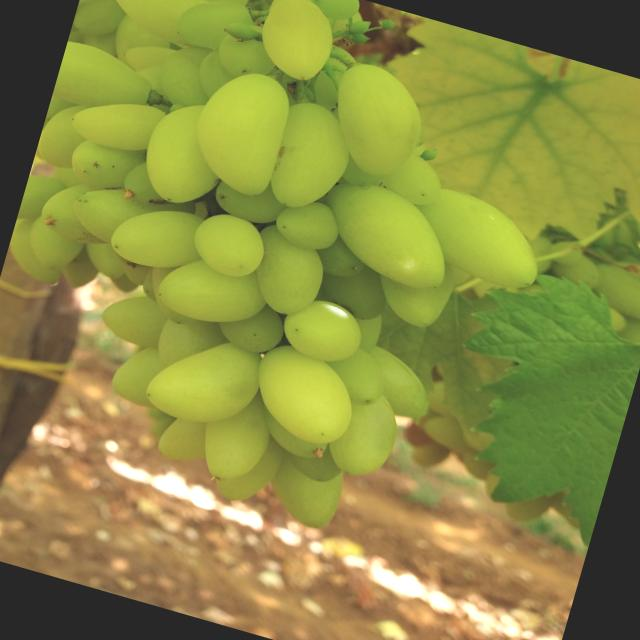grapes: (309, 171, 465, 297), (179, 58, 299, 204), (401, 181, 554, 295), (316, 58, 436, 186), (140, 324, 268, 438), (242, 338, 368, 450), (132, 94, 238, 214), (263, 96, 361, 222), (64, 176, 196, 268), (150, 249, 273, 338), (105, 192, 212, 282), (238, 224, 334, 322), (51, 38, 158, 124), (190, 387, 278, 488), (321, 384, 406, 484), (250, 0, 344, 85), (344, 341, 441, 423), (368, 245, 458, 332), (278, 290, 369, 370), (68, 86, 166, 159), (260, 452, 348, 532), (183, 206, 273, 284), (250, 388, 340, 464), (208, 428, 282, 511), (35, 175, 119, 248), (106, 340, 186, 416), (151, 310, 228, 382), (171, 0, 262, 59), (211, 294, 288, 362), (212, 15, 286, 85), (98, 0, 208, 47), (152, 38, 220, 114), (317, 340, 393, 408), (1, 217, 73, 288), (371, 146, 449, 210), (270, 193, 346, 258), (94, 286, 170, 351), (315, 261, 390, 326), (62, 136, 140, 197), (141, 260, 210, 328), (33, 96, 93, 172), (21, 214, 88, 276), (106, 12, 174, 72), (210, 175, 286, 228), (14, 170, 67, 237), (190, 42, 244, 106), (152, 413, 213, 468), (310, 232, 370, 284), (590, 262, 640, 321), (286, 442, 345, 487), (548, 246, 605, 292), (120, 158, 170, 210), (120, 36, 178, 79), (70, 0, 126, 43), (131, 58, 182, 101), (80, 238, 132, 280), (419, 412, 472, 453), (502, 492, 553, 529), (58, 248, 100, 292), (348, 308, 385, 356), (520, 233, 555, 277), (399, 420, 442, 454), (305, 0, 361, 25), (408, 440, 449, 474), (46, 164, 88, 194), (220, 16, 260, 47), (548, 237, 584, 270), (44, 92, 76, 126), (456, 454, 490, 484), (616, 257, 640, 299), (105, 270, 141, 296), (120, 259, 150, 286), (193, 0, 257, 12), (77, 0, 115, 14), (482, 470, 502, 494), (606, 310, 627, 332), (418, 145, 438, 163), (140, 282, 154, 298)
